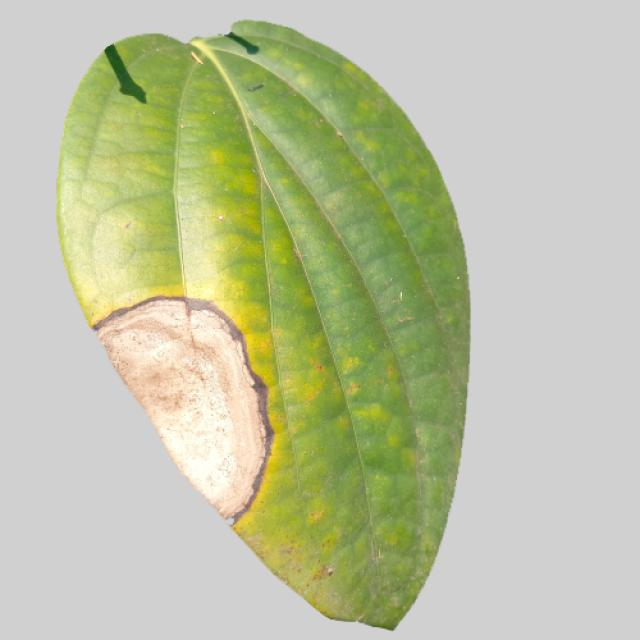leaf-blight: (39, 36, 482, 630)
